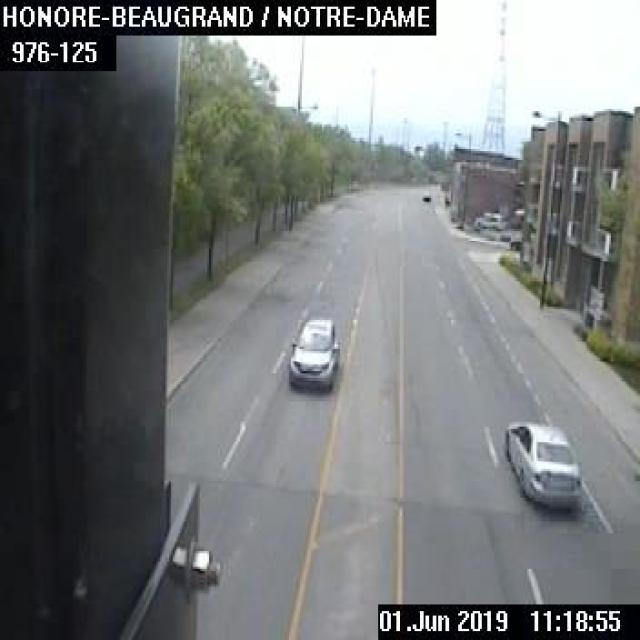vehicle: (502, 418, 582, 507), (286, 314, 338, 394)
